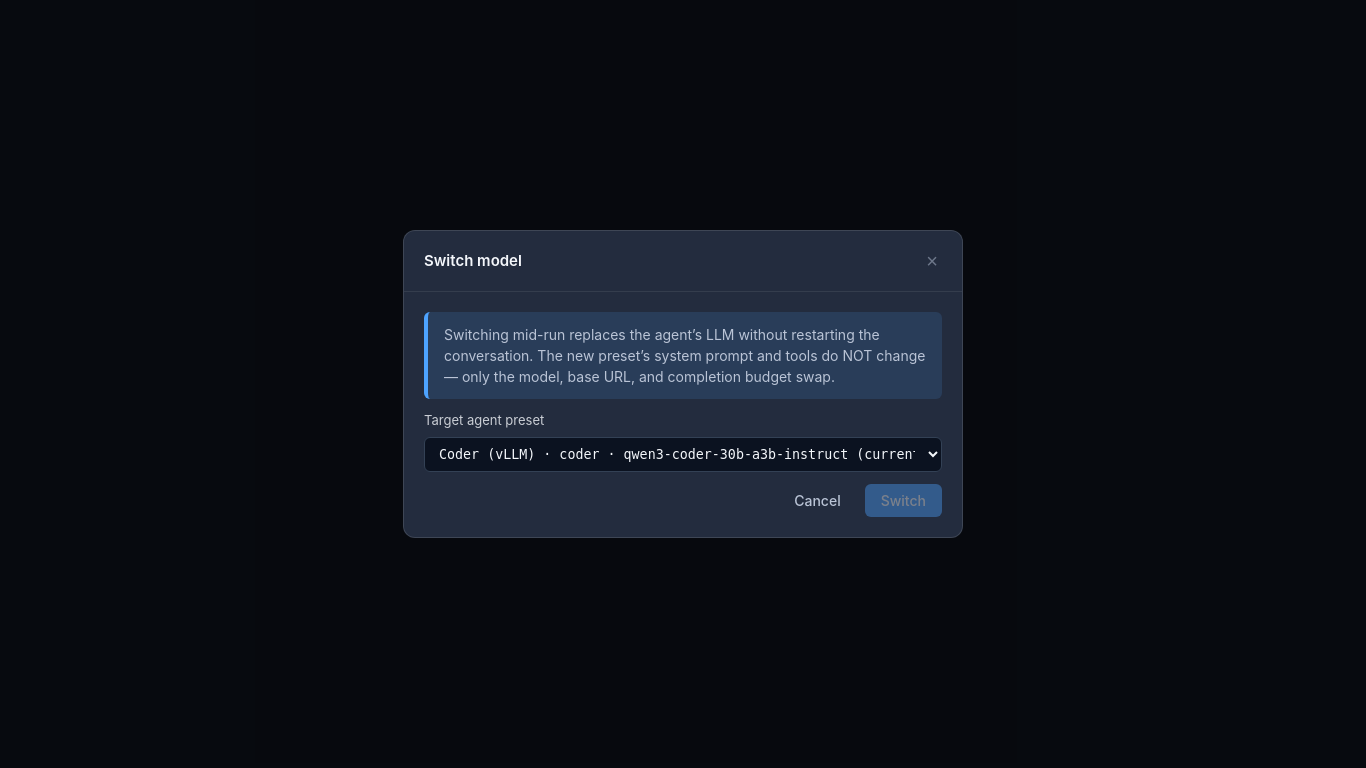
Test: RunModelSwitchModal › 422 preset_model_incompatible_for_role renders the "Preset misconfigured" banner
Select "Coder (Ollama) · coder · qwen3-coder:30b" in the dropdown labelled "Target agent preset" at (683, 454), box [424,437,942,472]
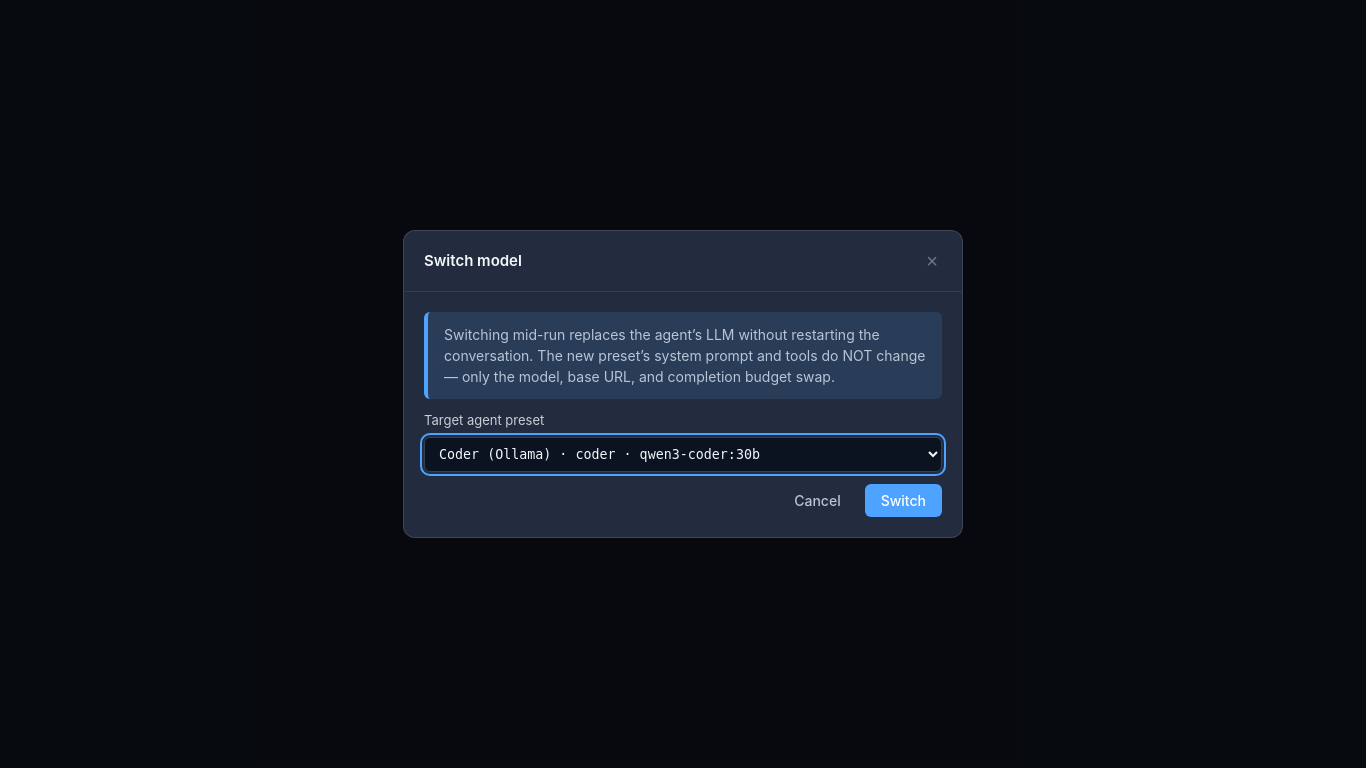
Click the button "Switch" at (903, 500), box [865,484,942,517]
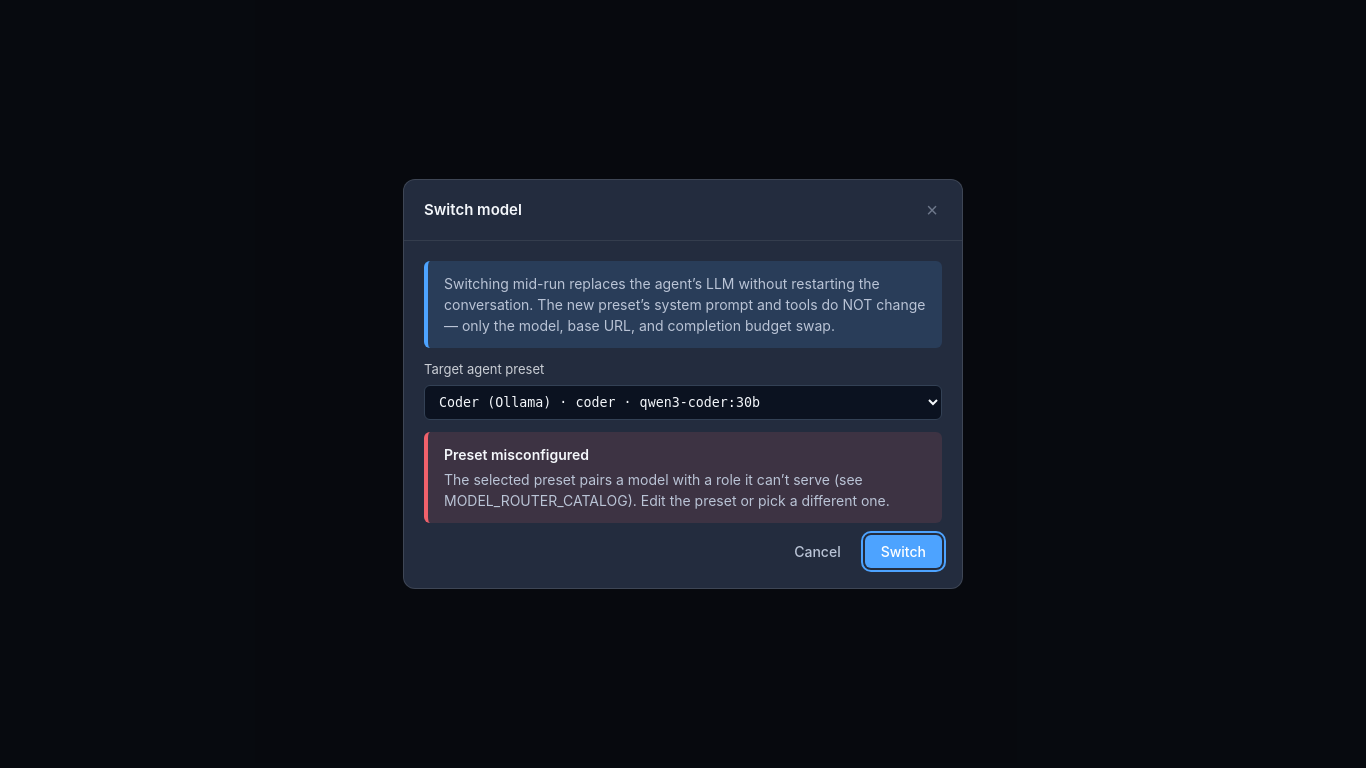
Expected: the text "Preset misconfigured" is shown, [444,446,589,463]
Expected: the text "MODEL_ROUTER_CATALOG" is shown, [444,471,890,509]
